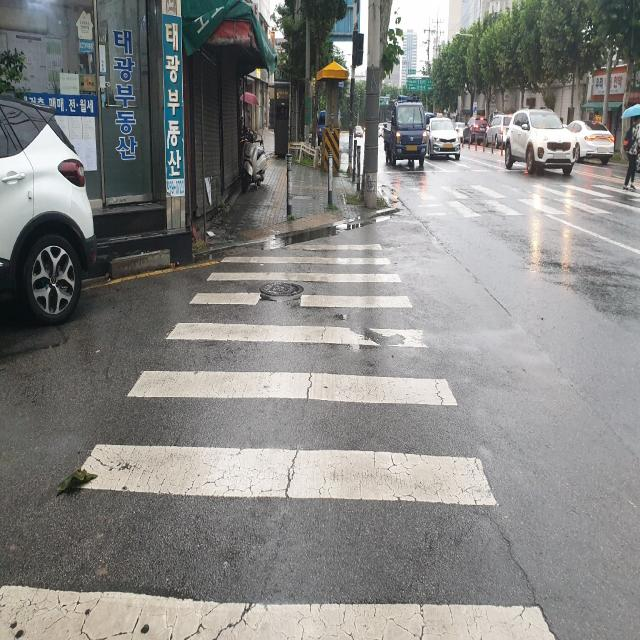횡단보도: (0, 240, 557, 640), (409, 178, 640, 217)
